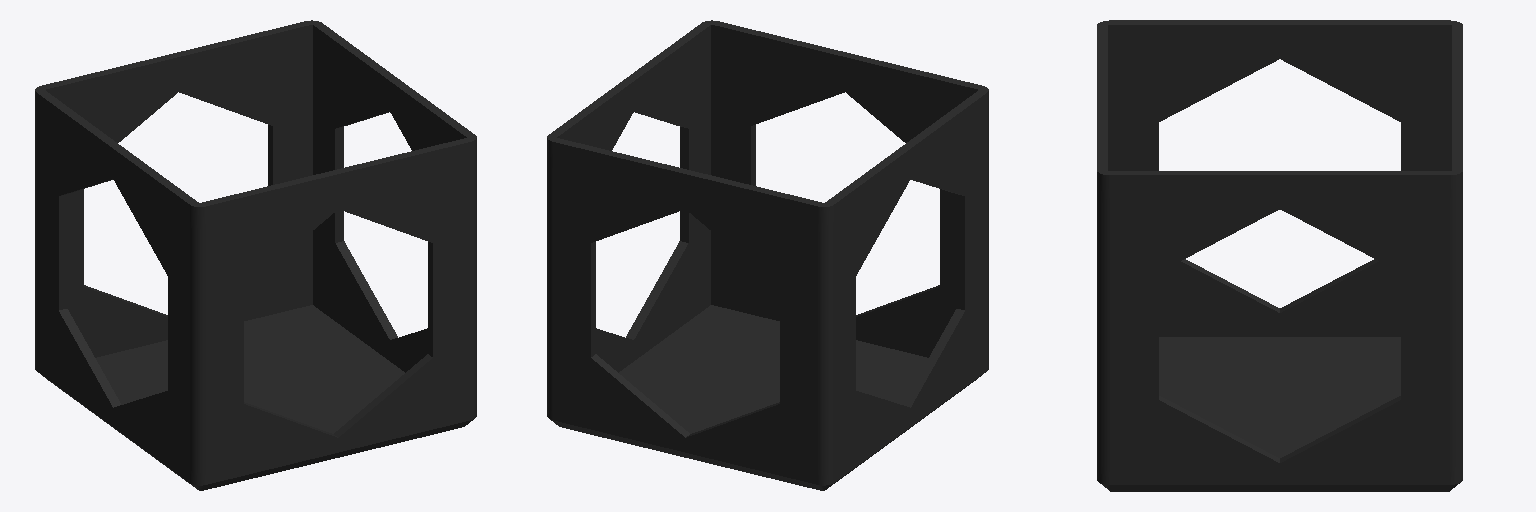
robot.urdf — obj_8:
<robot name="obj_8" version="1.0">
  <link name="obj_8_link">
    <collision name="obj_8-collision.001">
      <origin rpy="0.00000 0.00000 0.00000" xyz="0.00000 0.00000 0.00000"/>
      <geometry>
        <mesh filename="../meshes/obj/obj_8-collision.001.obj" scale="1.00000 1.00000 1.00000"/>
      </geometry>
    </collision>
    <collision name="obj_8-collision.002">
      <origin rpy="0.00000 0.00000 0.00000" xyz="0.00000 0.00000 0.00000"/>
      <geometry>
        <mesh filename="../meshes/obj/obj_8-collision.002.obj" scale="1.00000 1.00000 1.00000"/>
      </geometry>
    </collision>
    <collision name="obj_8-collision.003">
      <origin rpy="0.00000 0.00000 0.00000" xyz="0.00000 0.00000 0.00000"/>
      <geometry>
        <mesh filename="../meshes/obj/obj_8-collision.003.obj" scale="1.00000 1.00000 1.00000"/>
      </geometry>
    </collision>
    <collision name="obj_8-collision.004">
      <origin rpy="0.00000 0.00000 0.00000" xyz="0.00000 0.00000 0.00000"/>
      <geometry>
        <mesh filename="../meshes/obj/obj_8-collision.004.obj" scale="1.00000 1.00000 1.00000"/>
      </geometry>
    </collision>
    <collision name="obj_8-collision.005">
      <origin rpy="0.00000 0.00000 0.00000" xyz="0.00000 0.00000 0.00000"/>
      <geometry>
        <mesh filename="../meshes/obj/obj_8-collision.005.obj" scale="1.00000 1.00000 1.00000"/>
      </geometry>
    </collision>
    <collision name="obj_8-collision.006">
      <origin rpy="0.00000 0.00000 0.00000" xyz="0.00000 0.00000 0.00000"/>
      <geometry>
        <mesh filename="../meshes/obj/obj_8-collision.006.obj" scale="1.00000 1.00000 1.00000"/>
      </geometry>
    </collision>
    <collision name="obj_8-collision.007">
      <origin rpy="0.00000 0.00000 0.00000" xyz="0.00000 0.00000 0.00000"/>
      <geometry>
        <mesh filename="../meshes/obj/obj_8-collision.007.obj" scale="1.00000 1.00000 1.00000"/>
      </geometry>
    </collision>
    <collision name="obj_8-collision.008">
      <origin rpy="0.00000 0.00000 0.00000" xyz="0.00000 0.00000 0.00000"/>
      <geometry>
        <mesh filename="../meshes/obj/obj_8-collision.008.obj" scale="1.00000 1.00000 1.00000"/>
      </geometry>
    </collision>
    <collision name="obj_8-collision.009">
      <origin rpy="0.00000 0.00000 0.00000" xyz="0.00000 0.00000 0.00000"/>
      <geometry>
        <mesh filename="../meshes/obj/obj_8-collision.009.obj" scale="1.00000 1.00000 1.00000"/>
      </geometry>
    </collision>
    <collision name="obj_8-collision.010">
      <origin rpy="0.00000 0.00000 0.00000" xyz="0.00000 0.00000 0.00000"/>
      <geometry>
        <mesh filename="../meshes/obj/obj_8-collision.010.obj" scale="1.00000 1.00000 1.00000"/>
      </geometry>
    </collision>
    <collision name="obj_8-collision.011">
      <origin rpy="0.00000 0.00000 0.00000" xyz="0.00000 0.00000 0.00000"/>
      <geometry>
        <mesh filename="../meshes/obj/obj_8-collision.011.obj" scale="1.00000 1.00000 1.00000"/>
      </geometry>
    </collision>
    <collision name="obj_8-collision.012">
      <origin rpy="0.00000 0.00000 0.00000" xyz="0.00000 0.00000 0.00000"/>
      <geometry>
        <mesh filename="../meshes/obj/obj_8-collision.012.obj" scale="1.00000 1.00000 1.00000"/>
      </geometry>
    </collision>
    <collision name="obj_8-collision.013">
      <origin rpy="0.00000 0.00000 0.00000" xyz="0.00000 0.00000 0.00000"/>
      <geometry>
        <mesh filename="../meshes/obj/obj_8-collision.013.obj" scale="1.00000 1.00000 1.00000"/>
      </geometry>
    </collision>
    <collision name="obj_8-collision.014">
      <origin rpy="0.00000 0.00000 0.00000" xyz="0.00000 0.00000 0.00000"/>
      <geometry>
        <mesh filename="../meshes/obj/obj_8-collision.014.obj" scale="1.00000 1.00000 1.00000"/>
      </geometry>
    </collision>
    <collision name="obj_8-collision.015">
      <origin rpy="0.00000 0.00000 0.00000" xyz="0.00000 0.00000 0.00000"/>
      <geometry>
        <mesh filename="../meshes/obj/obj_8-collision.015.obj" scale="1.00000 1.00000 1.00000"/>
      </geometry>
    </collision>
    <collision name="obj_8-collision.016">
      <origin rpy="0.00000 0.00000 0.00000" xyz="0.00000 0.00000 0.00000"/>
      <geometry>
        <mesh filename="../meshes/obj/obj_8-collision.016.obj" scale="1.00000 1.00000 1.00000"/>
      </geometry>
    </collision>
    <collision name="obj_8-collision.017">
      <origin rpy="0.00000 0.00000 0.00000" xyz="0.00000 0.00000 0.00000"/>
      <geometry>
        <mesh filename="../meshes/obj/obj_8-collision.017.obj" scale="1.00000 1.00000 1.00000"/>
      </geometry>
    </collision>
    <collision name="obj_8-collision.018">
      <origin rpy="0.00000 0.00000 0.00000" xyz="0.00000 0.00000 0.00000"/>
      <geometry>
        <mesh filename="../meshes/obj/obj_8-collision.018.obj" scale="1.00000 1.00000 1.00000"/>
      </geometry>
    </collision>
    <collision name="obj_8-collision.019">
      <origin rpy="0.00000 0.00000 0.00000" xyz="0.00000 0.00000 0.00000"/>
      <geometry>
        <mesh filename="../meshes/obj/obj_8-collision.019.obj" scale="1.00000 1.00000 1.00000"/>
      </geometry>
    </collision>
    <collision name="obj_8-collision.020">
      <origin rpy="0.00000 0.00000 0.00000" xyz="0.00000 0.00000 0.00000"/>
      <geometry>
        <mesh filename="../meshes/obj/obj_8-collision.020.obj" scale="1.00000 1.00000 1.00000"/>
      </geometry>
    </collision>
    <collision name="obj_8-collision.021">
      <origin rpy="0.00000 0.00000 0.00000" xyz="0.00000 0.00000 0.00000"/>
      <geometry>
        <mesh filename="../meshes/obj/obj_8-collision.021.obj" scale="1.00000 1.00000 1.00000"/>
      </geometry>
    </collision>
    <collision name="obj_8-collision.022">
      <origin rpy="0.00000 0.00000 0.00000" xyz="0.00000 0.00000 0.00000"/>
      <geometry>
        <mesh filename="../meshes/obj/obj_8-collision.022.obj" scale="1.00000 1.00000 1.00000"/>
      </geometry>
    </collision>
    <collision name="obj_8-collision.023">
      <origin rpy="0.00000 0.00000 0.00000" xyz="0.00000 0.00000 0.00000"/>
      <geometry>
        <mesh filename="../meshes/obj/obj_8-collision.023.obj" scale="1.00000 1.00000 1.00000"/>
      </geometry>
    </collision>
    <collision name="obj_8-collision.024">
      <origin rpy="0.00000 0.00000 0.00000" xyz="0.00000 0.00000 0.00000"/>
      <geometry>
        <mesh filename="../meshes/obj/obj_8-collision.024.obj" scale="1.00000 1.00000 1.00000"/>
      </geometry>
    </collision>
    <collision name="obj_8-collision.025">
      <origin rpy="0.00000 0.00000 0.00000" xyz="0.00000 0.00000 0.00000"/>
      <geometry>
        <mesh filename="../meshes/obj/obj_8-collision.025.obj" scale="1.00000 1.00000 1.00000"/>
      </geometry>
    </collision>
    <collision name="obj_8-collision.026">
      <origin rpy="0.00000 0.00000 0.00000" xyz="0.00000 0.00000 0.00000"/>
      <geometry>
        <mesh filename="../meshes/obj/obj_8-collision.026.obj" scale="1.00000 1.00000 1.00000"/>
      </geometry>
    </collision>
    <collision name="obj_8-collision.027">
      <origin rpy="0.00000 0.00000 0.00000" xyz="0.00000 0.00000 0.00000"/>
      <geometry>
        <mesh filename="../meshes/obj/obj_8-collision.027.obj" scale="1.00000 1.00000 1.00000"/>
      </geometry>
    </collision>
    <collision name="obj_8-collision.028">
      <origin rpy="0.00000 0.00000 0.00000" xyz="0.00000 0.00000 0.00000"/>
      <geometry>
        <mesh filename="../meshes/obj/obj_8-collision.028.obj" scale="1.00000 1.00000 1.00000"/>
      </geometry>
    </collision>
    <collision name="obj_8-collision.029">
      <origin rpy="0.00000 0.00000 0.00000" xyz="0.00000 0.00000 0.00000"/>
      <geometry>
        <mesh filename="../meshes/obj/obj_8-collision.029.obj" scale="1.00000 1.00000 1.00000"/>
      </geometry>
    </collision>
    <collision name="obj_8-collision.030">
      <origin rpy="0.00000 0.00000 0.00000" xyz="0.00000 0.00000 0.00000"/>
      <geometry>
        <mesh filename="../meshes/obj/obj_8-collision.030.obj" scale="1.00000 1.00000 1.00000"/>
      </geometry>
    </collision>
    <collision name="obj_8-collision.031">
      <origin rpy="0.00000 0.00000 0.00000" xyz="0.00000 0.00000 0.00000"/>
      <geometry>
        <mesh filename="../meshes/obj/obj_8-collision.031.obj" scale="1.00000 1.00000 1.00000"/>
      </geometry>
    </collision>
    <collision name="obj_8-collision.032">
      <origin rpy="0.00000 0.00000 0.00000" xyz="0.00000 0.00000 0.00000"/>
      <geometry>
        <mesh filename="../meshes/obj/obj_8-collision.032.obj" scale="1.00000 1.00000 1.00000"/>
      </geometry>
    </collision>
    <collision name="obj_8-collision.033">
      <origin rpy="0.00000 0.00000 0.00000" xyz="0.00000 0.00000 0.00000"/>
      <geometry>
        <mesh filename="../meshes/obj/obj_8-collision.033.obj" scale="1.00000 1.00000 1.00000"/>
      </geometry>
    </collision>
    <collision name="obj_8-collision.034">
      <origin rpy="0.00000 0.00000 0.00000" xyz="0.00000 0.00000 0.00000"/>
      <geometry>
        <mesh filename="../meshes/obj/obj_8-collision.034.obj" scale="1.00000 1.00000 1.00000"/>
      </geometry>
    </collision>
    <inertial>
      <inertia ixx="0.03529" ixy="-0.00001" ixz="0.00018" iyy="0.03529" iyz="0.00028" izz="0.03155"/>
      <origin rpy="0.00000 0.00000 0.00000" xyz="0.29227 0.66649 0.14818"/>
      <mass value="1.00000"/>
    </inertial>
    <visual name="obj_8">
      <material name="turnarrow_medium_gray"/>
      <origin rpy="0.00000 0.00000 0.00000" xyz="0.29408 0.66932 0.07707"/>
      <geometry>
        <mesh filename="../meshes/obj/bt_cube3x3_box.obj" scale="0.00500 0.00500 0.00500"/>
      </geometry>
    </visual>
  </link>
  <material name="turnarrow_medium_gray">
    <color rgba="0.21176 0.21176 0.21176 1.00000"/>
  </material>
</robot>

--- What the picture shows (computed from the rendered views, not written in the file) ---
The picture shows the robot from 3 angles, left to right: view 1: azimuth 30°, elevation 25°; view 2: azimuth 150°, elevation 25°; view 3: azimuth 270°, elevation 25°; orthographic projection.
Model obj_8 with 1 links and 0 joints (none), rooted at obj_8_link, posed every joint at zero.
Visible links, largest first — view 1: obj_8_link; view 2: obj_8_link; view 3: obj_8_link.
Boxes of the visible links, <box> form: obj_8_link: <box>35,20,476,490</box>; obj_8_link: <box>547,20,988,490</box>; obj_8_link: <box>1097,20,1462,491</box>.
Size in the robot's own frame: 0.4052 by 0.4052 by 0.3926 metres.
Meshes: 1 distinct files referenced, 1 mesh visuals loaded (1 OBJ).